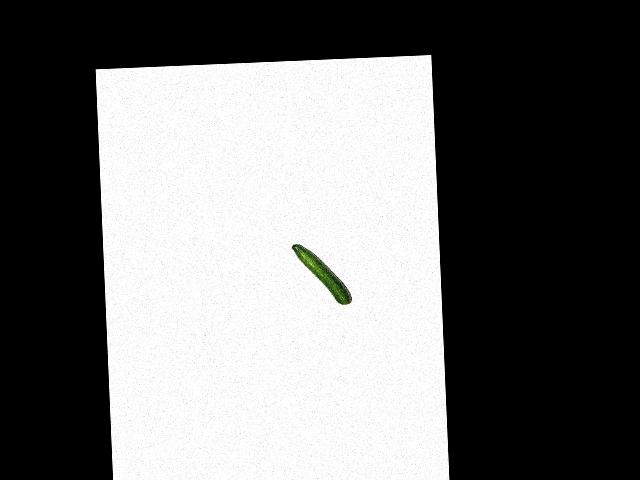cucumber: (291, 242, 352, 307)
